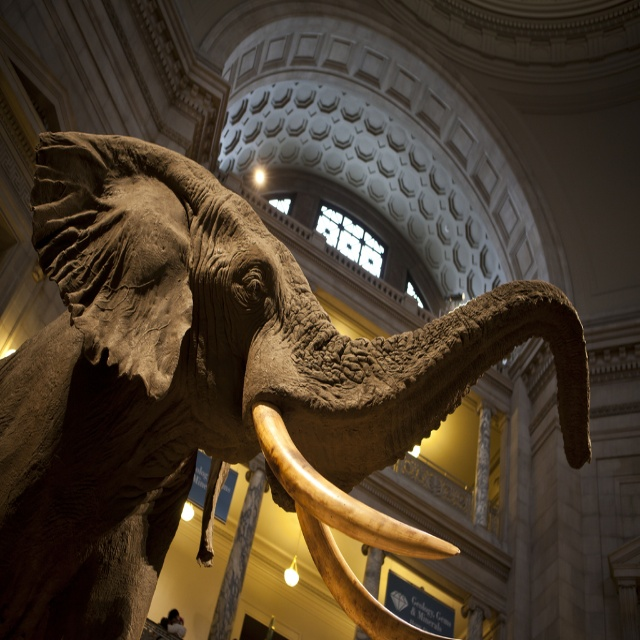Elephant: (0, 132, 592, 640)
